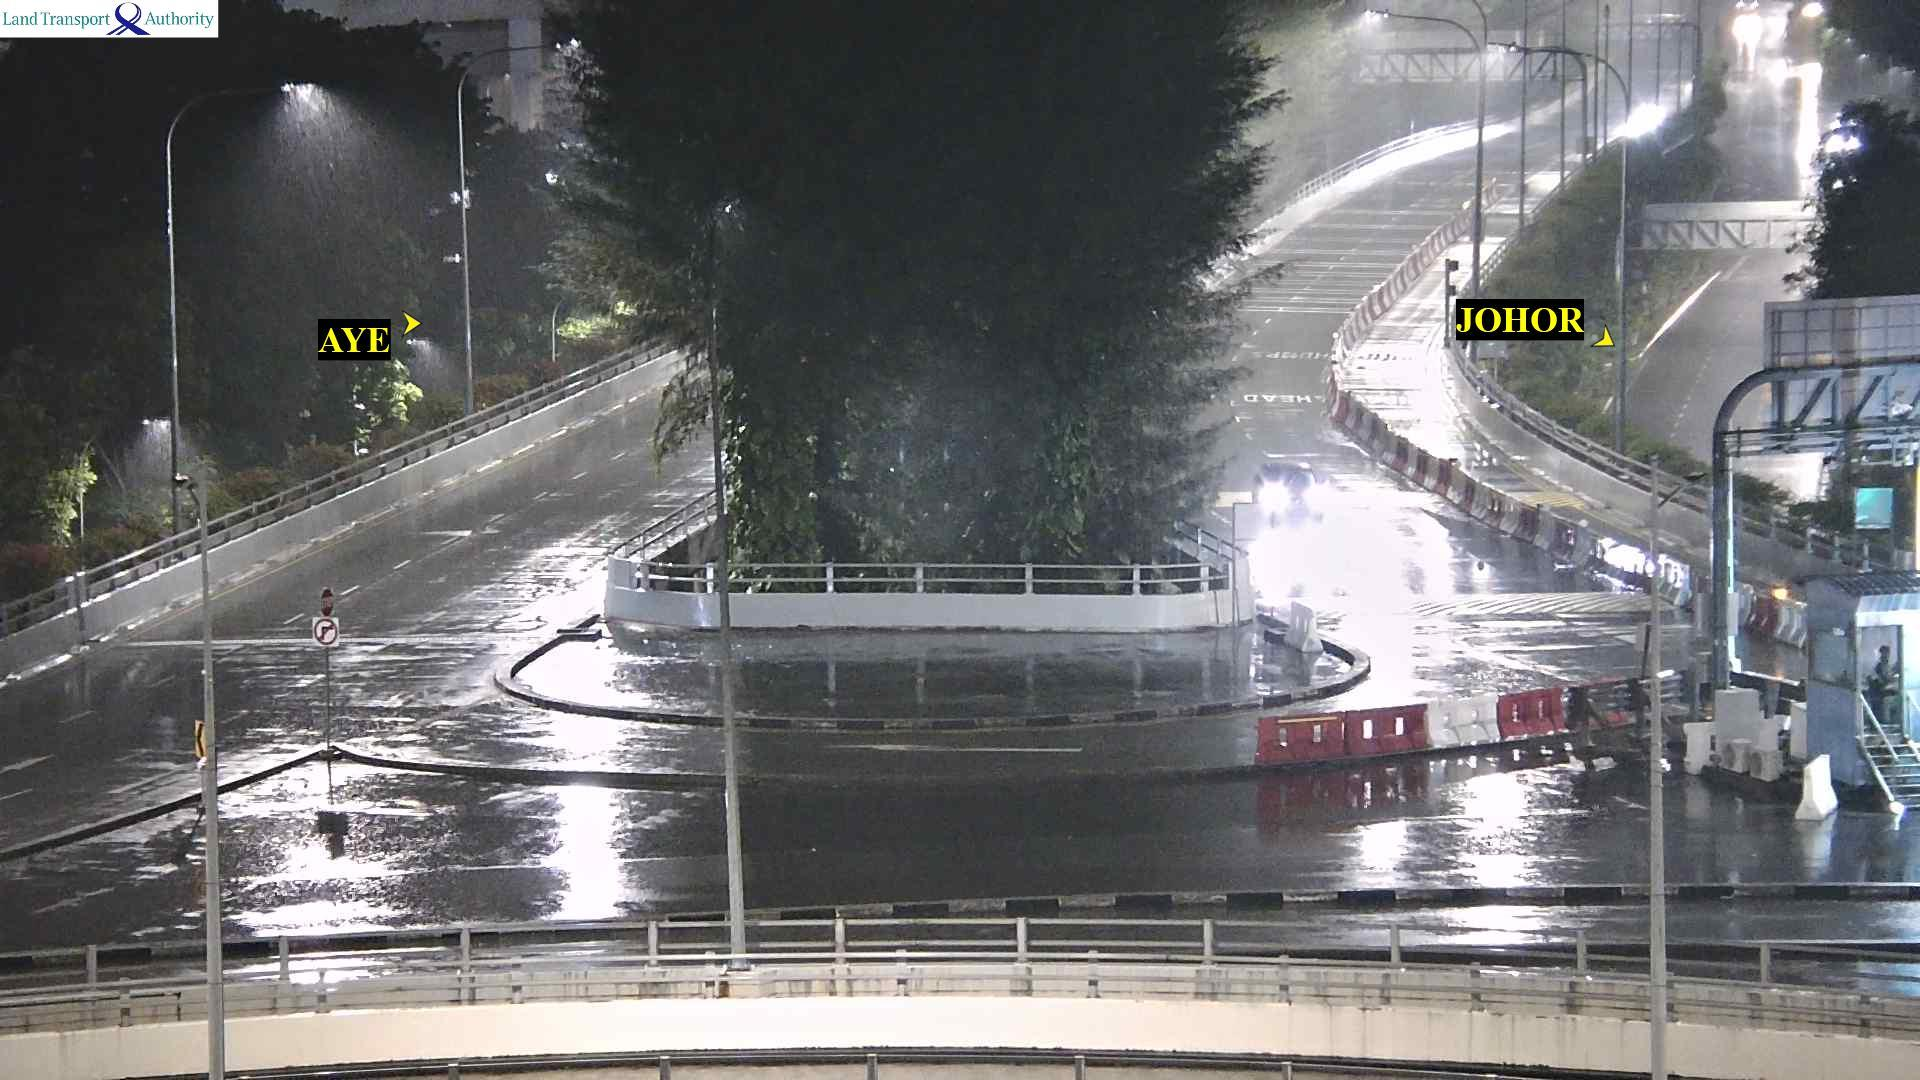vehicle-secondlink-johor: (1255, 460, 1324, 516)
